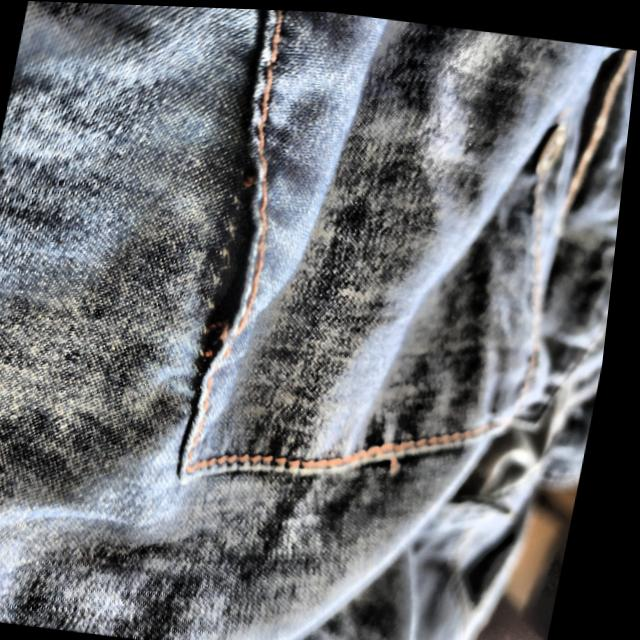seam: (174, 128, 289, 409)
